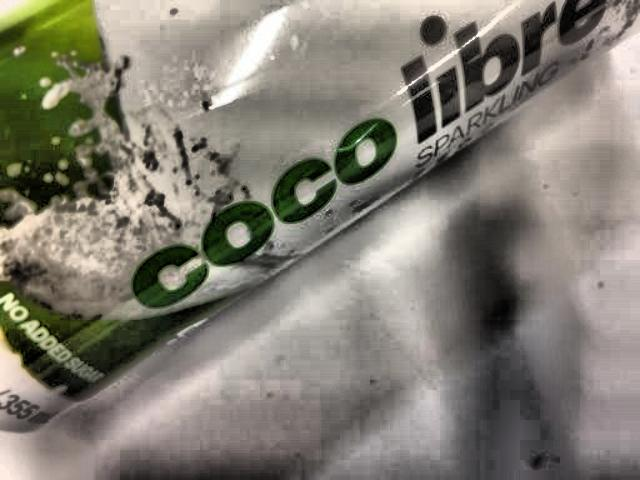Plastic: (0, 0, 640, 454)
